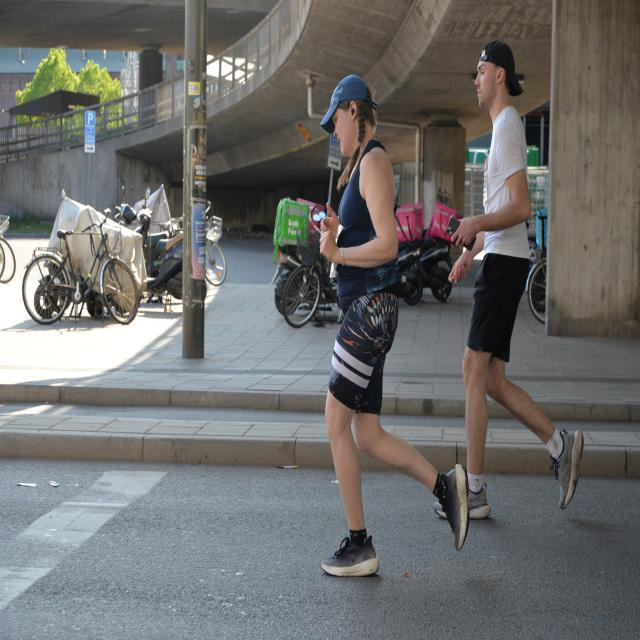runner-detect: (302, 69, 471, 602), (451, 36, 589, 562)
